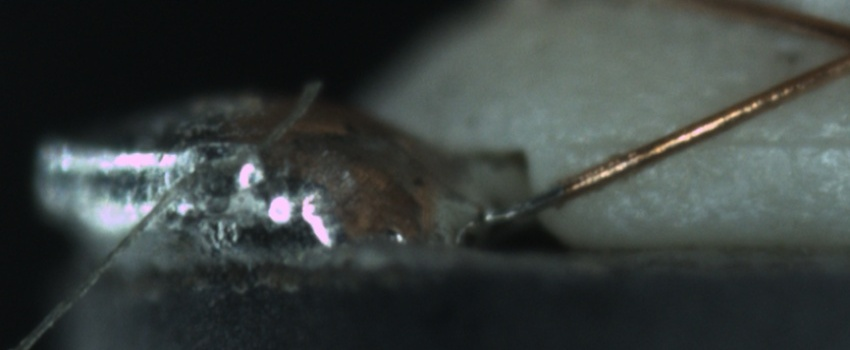DL: (566, 115, 850, 179)
TS: (479, 187, 561, 223)
TTCW: (486, 159, 620, 226)
